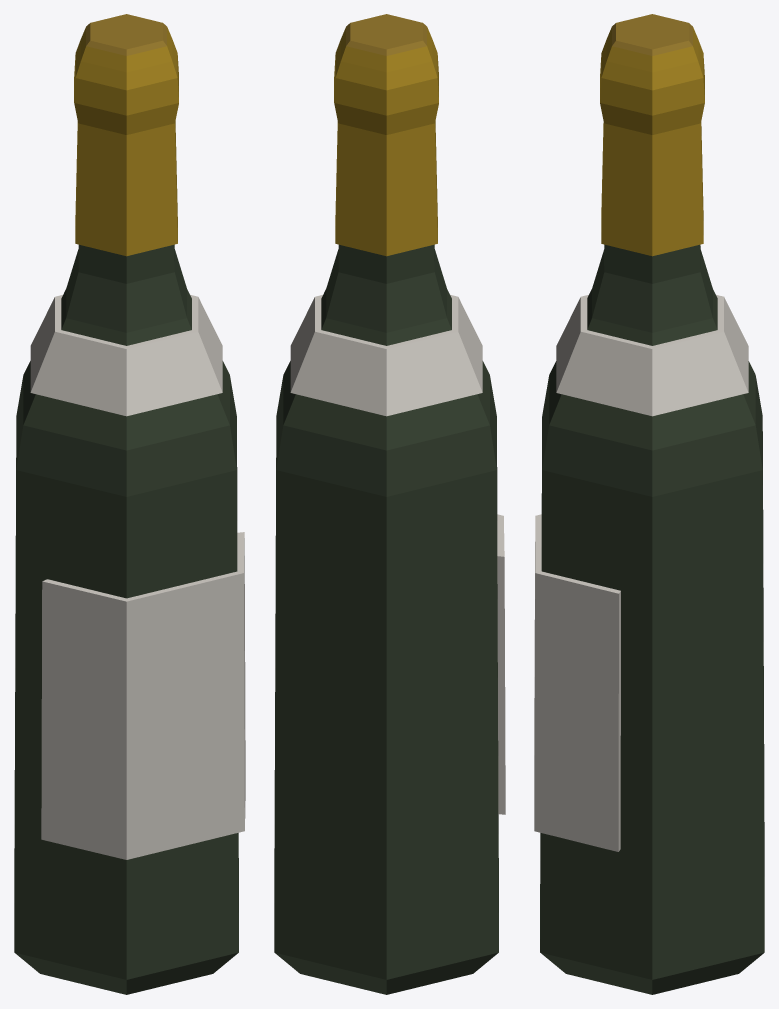
File: wine_bottle.glb
3 renders of one model, left to right at view 1: azimuth 30°, elevation 25°; view 2: azimuth 150°, elevation 25°; view 3: azimuth 270°, elevation 25°, orthographic.
Visible parts, largest first — view 1: mesh_0; view 2: mesh_0; view 3: mesh_0.
Part boxes in pixels (x1,y1,x2,y2): mesh_0: (14, 14, 245, 994); mesh_0: (274, 14, 505, 994); mesh_0: (534, 14, 764, 994).
Bounding box in the file's own units: 0.0766 × 0.3 × 0.0681.
